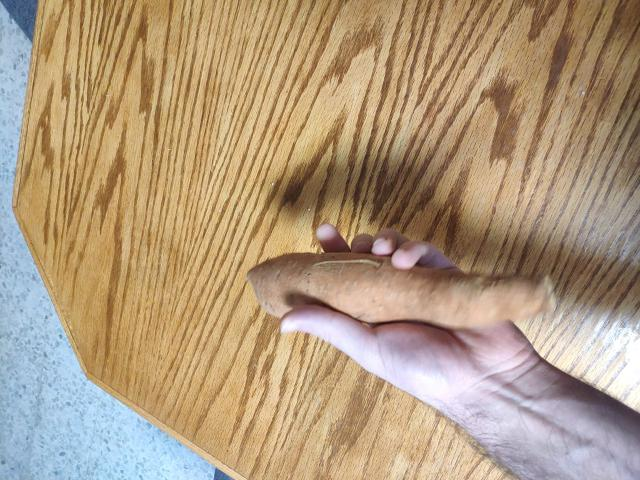sweet_potato: (221, 242, 566, 362)
